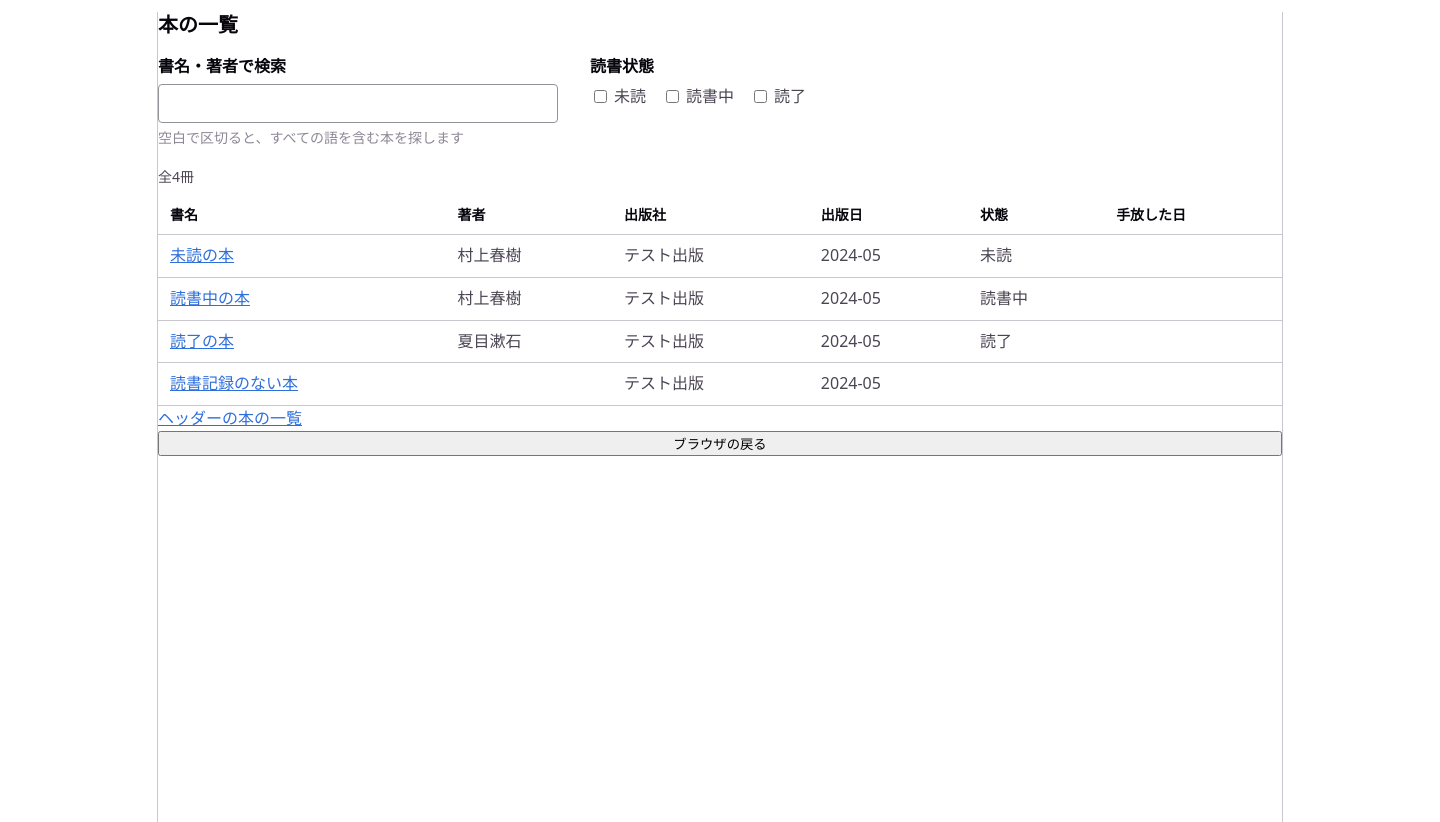
Test case: BookListPage › 読書状態の絞り込み › 複数選ぶと、そのどれかに当てはまる本を表示する
The width and height of the screenshot is (1440, 822).
Step 1. Click the checkbox labelled "未読" → (600, 96), box x1=594 y1=90 x2=607 y2=103
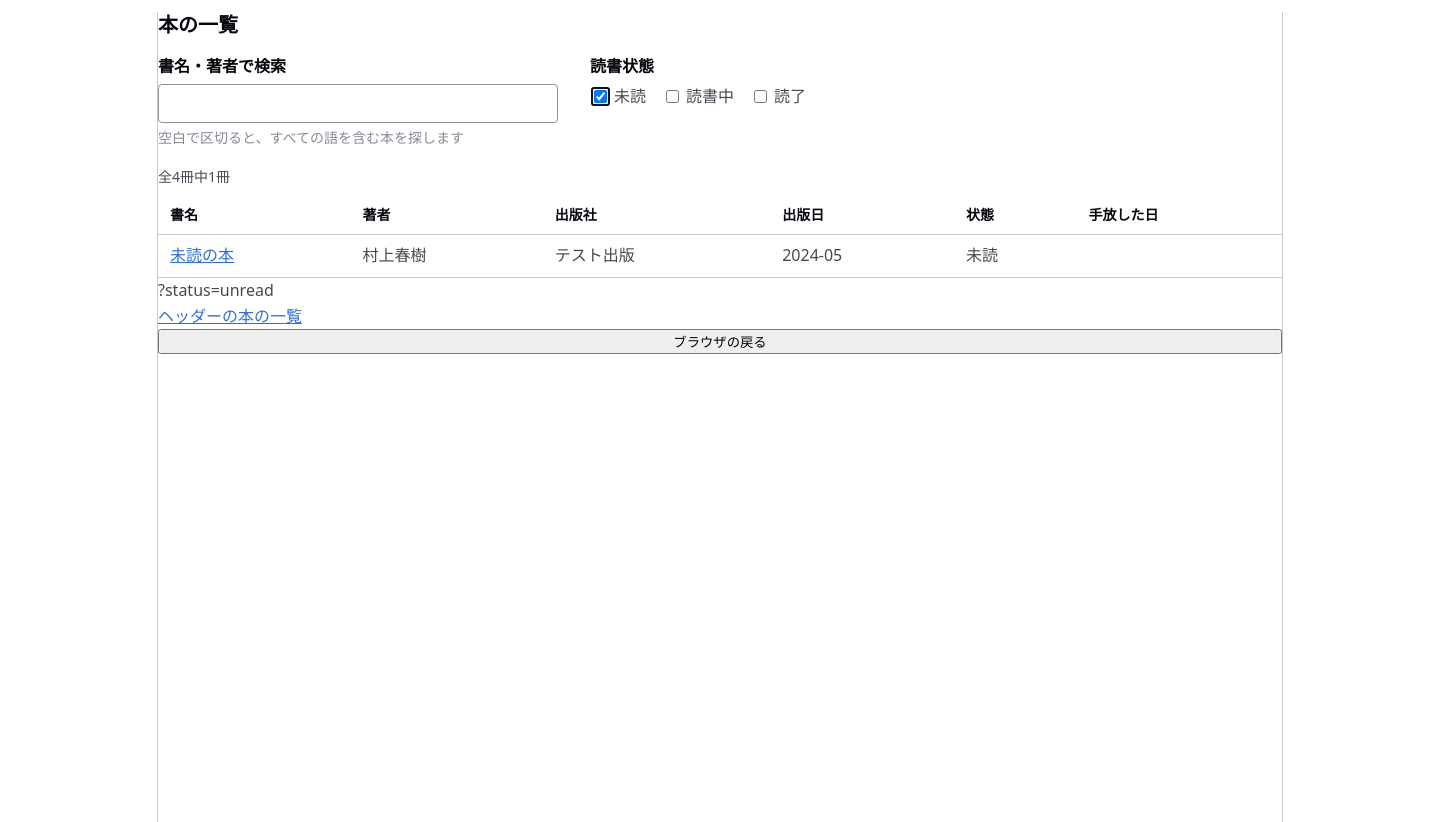
Step 2. Click the checkbox labelled "読書中" → (672, 96), box x1=666 y1=90 x2=679 y2=103
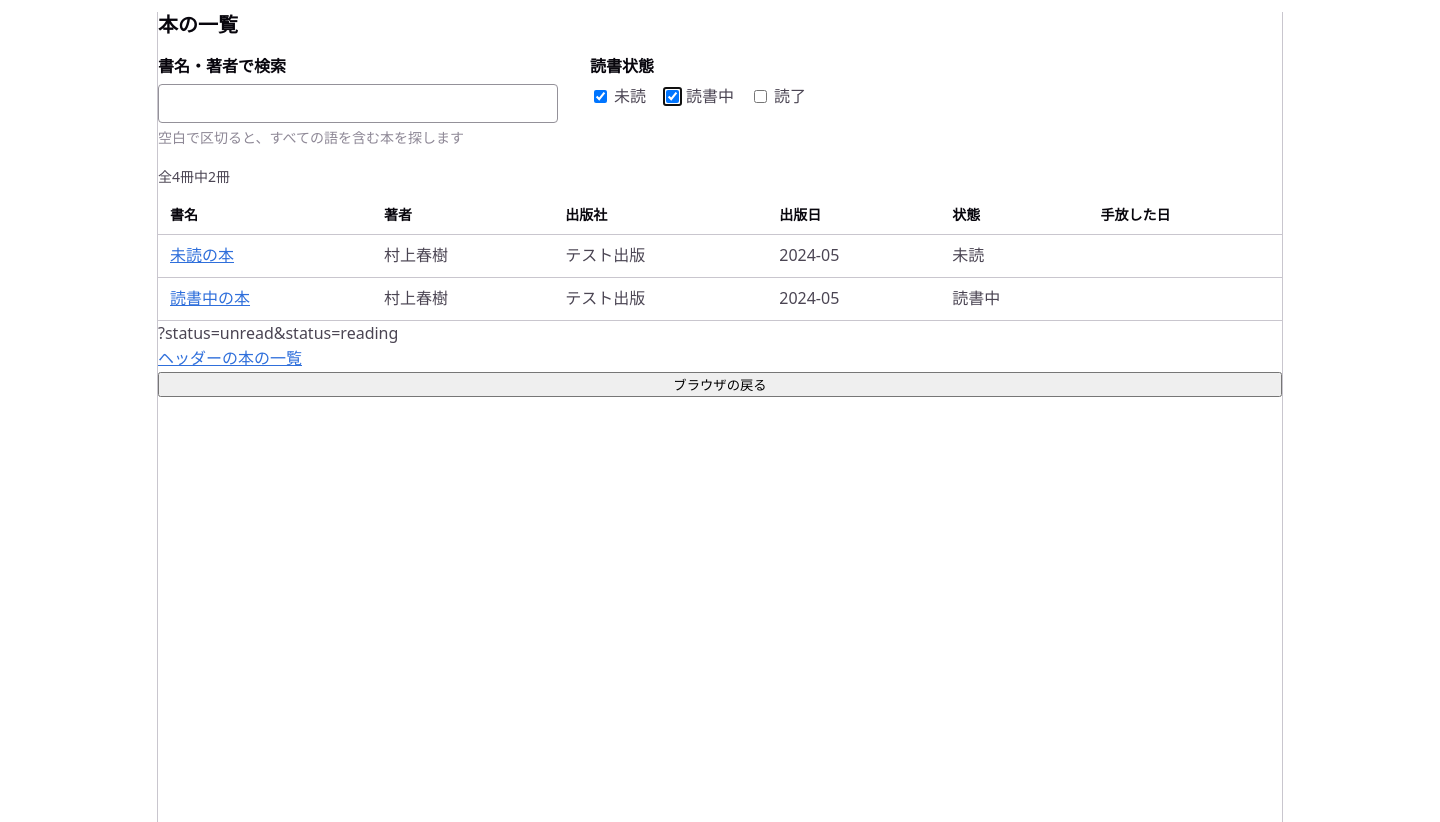
Now the text "全4冊中2冊" is shown, box x1=158 y1=167 x2=230 y2=186
